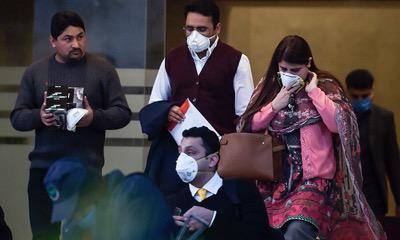with_mask: (175, 143, 209, 182), (185, 21, 217, 51), (277, 64, 308, 89), (348, 91, 372, 113)
without_mask: (55, 30, 86, 61)
